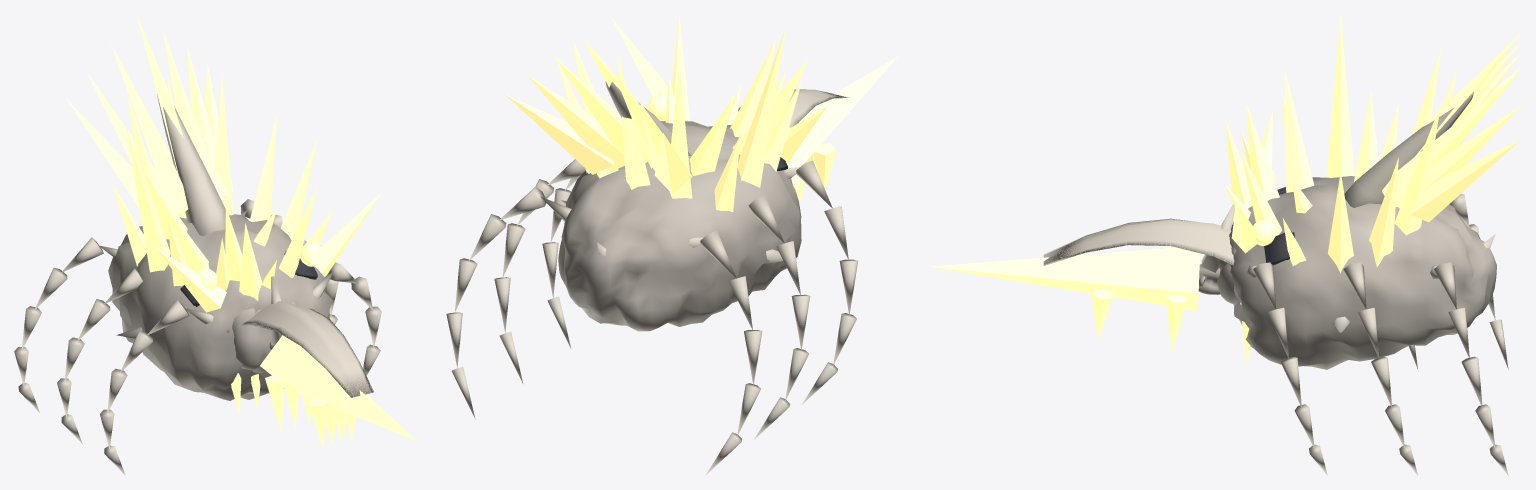
Rendered from jadebone.glb.
The picture shows the model from 3 angles, left to right: view 1: azimuth 30°, elevation 25°; view 2: azimuth 150°, elevation 25°; view 3: azimuth 270°, elevation 25°; orthographic projection. The views are drawn at different scales.
Visible parts, largest first — view 1: jadebone_head, jadebone_seg, jadebone_node, jadebone_petal, jadebone_tail; view 2: jadebone_head, jadebone_seg, jadebone_node, jadebone_tail, jadebone_petal; view 3: jadebone_head, jadebone_seg, jadebone_node, jadebone_tail, jadebone_petal.
Boxes of the visible parts, bbox=[...] form: jadebone_head: bbox=[66, 15, 332, 400]; jadebone_seg: bbox=[14, 94, 381, 475]; jadebone_node: bbox=[112, 73, 331, 290]; jadebone_petal: bbox=[231, 301, 373, 447]; jadebone_tail: bbox=[260, 268, 416, 440]; jadebone_head: bbox=[504, 39, 801, 331]; jadebone_seg: bbox=[446, 17, 858, 475]; jadebone_node: bbox=[556, 15, 802, 211]; jadebone_tail: bbox=[597, 57, 897, 286]; jadebone_petal: bbox=[738, 89, 849, 204]; jadebone_head: bbox=[1229, 34, 1520, 369]; jadebone_seg: bbox=[1217, 70, 1508, 475]; jadebone_node: bbox=[1224, 15, 1456, 273]; jadebone_tail: bbox=[929, 204, 1495, 310]; jadebone_petal: bbox=[1043, 218, 1250, 363].
Size of the model in its own units: 1.31 by 1.67 by 2.3.
